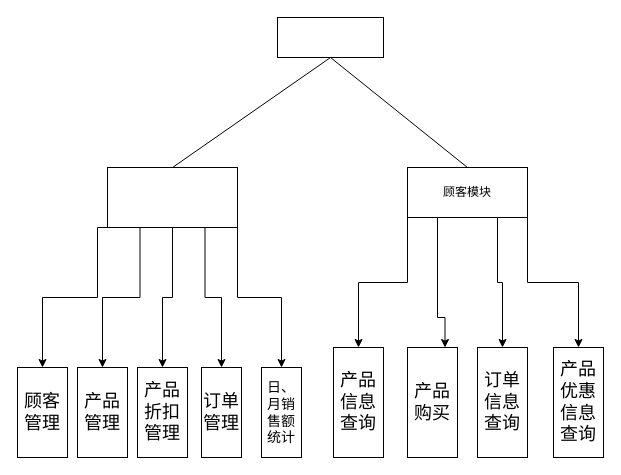
Some shapes in this 621 by 475 pixel diagram are drawn without their labels. The centre of each missing label's shape, as x and y in pixels:
后台功能模块: (330,37)
管理员模块: (172,197)
